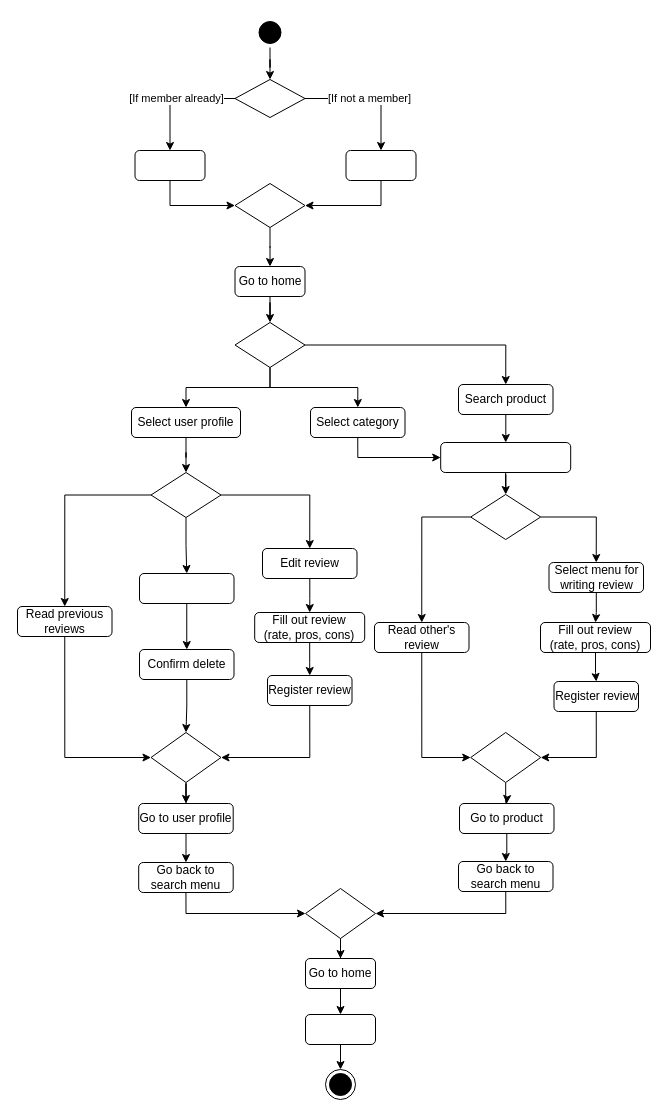
This 668x1117 diagram has some shape labels left out. Each missing label, with the centre of its shape:
Delete review: (x=186, y=588)
Log in: (x=169, y=165)
Select product to access review page: (x=505, y=457)
Sign out: (x=340, y=1029)
Sign up: (x=380, y=165)
